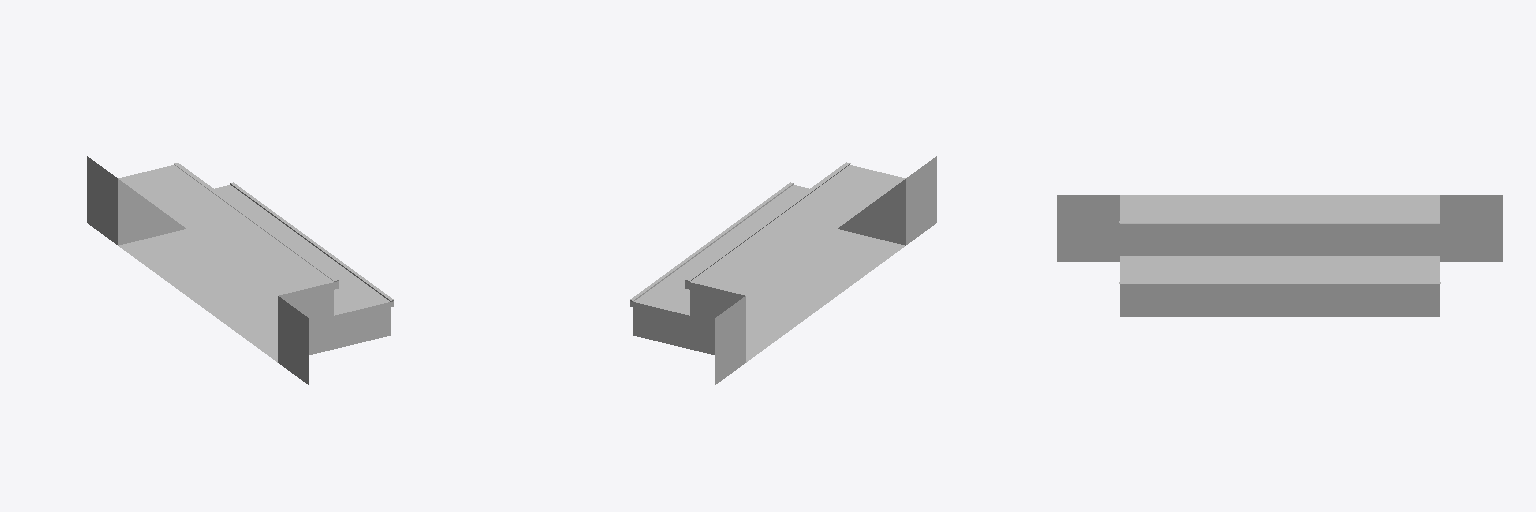
File: stair.obj
The picture shows the model from 3 angles: view 1: azimuth 30°, elevation 25°; view 2: azimuth 150°, elevation 25°; view 3: azimuth 270°, elevation 25°; orthographic projection.
Parts seen in each view (by area): view 1: Cube.001; view 2: Cube.001; view 3: Cube.001.
Boxes of the visible parts, x1,y1,x2,y2 form: Cube.001: [87, 156, 393, 384]; Cube.001: [630, 156, 936, 384]; Cube.001: [1057, 195, 1502, 316].
Size of the model in its own units: 0.9013 by 0.5093 by 3.